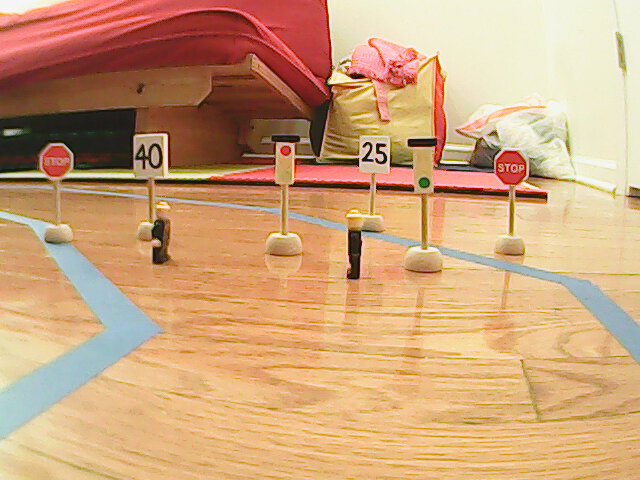Green Traffic Light: (406, 137, 437, 196)
Person: (149, 203, 175, 264), (346, 209, 363, 279)
Red Traffic Light: (271, 134, 300, 187)
Speed Limit 25: (358, 136, 391, 174)
Speed Limit 40: (132, 133, 169, 182)
Stop Sign: (492, 146, 532, 187), (38, 141, 76, 181)
